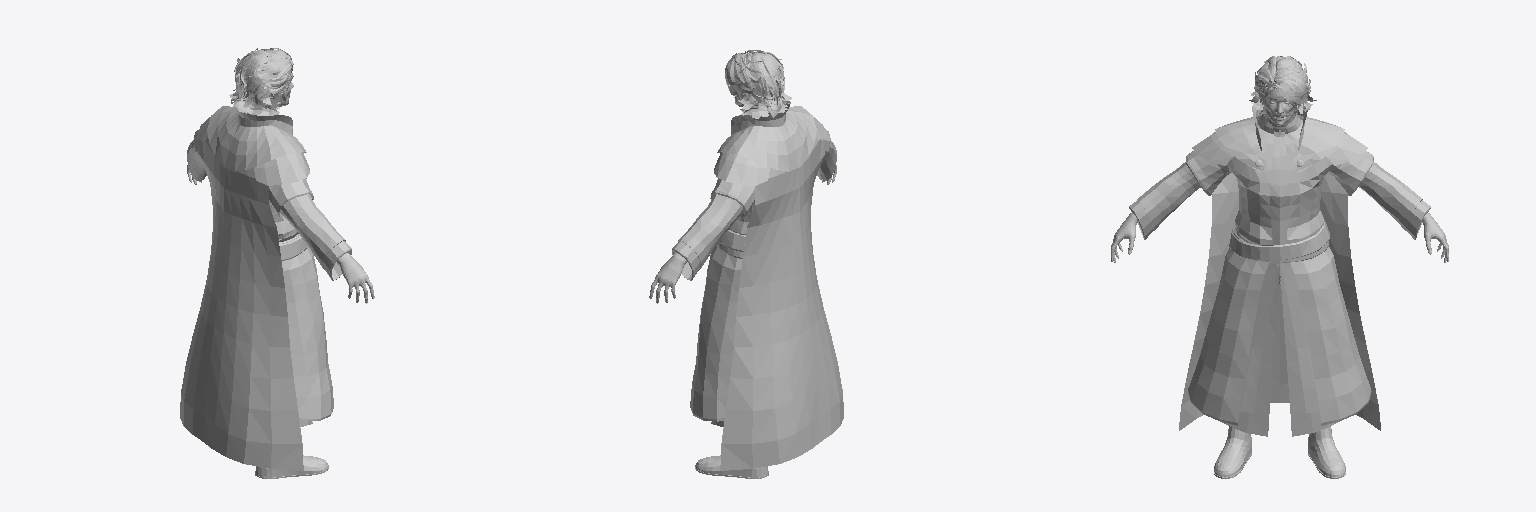
File: uploads_files_5657269_Male_Teacher.obj
3 views of the same model, side by side, from view 1: azimuth 30°, elevation 25°; view 2: azimuth 150°, elevation 25°; view 3: azimuth 270°, elevation 25° (orthographic).
Visible parts, largest first — view 1: Outfit, Hair, Body, Shoes; view 2: Outfit, Hair, Body, Shoes; view 3: Outfit, Shoes, Hair, Body.
Boxes of the visible parts, x1=… form: Outfit: x1=180, y1=106, x2=351, y2=470; Hair: x1=229, y1=48, x2=293, y2=115; Body: x1=187, y1=80, x2=374, y2=303; Shoes: x1=255, y1=455, x2=328, y2=478; Outfit: x1=672, y1=101, x2=843, y2=470; Hair: x1=725, y1=50, x2=791, y2=118; Body: x1=649, y1=92, x2=836, y2=303; Shoes: x1=695, y1=455, x2=768, y2=478; Outfit: x1=1129, y1=106, x2=1430, y2=436; Shoes: x1=1214, y1=426, x2=1345, y2=478; Hair: x1=1249, y1=56, x2=1316, y2=113; Body: x1=1111, y1=88, x2=1448, y2=262.
Size of the model in its own units: 0.5025 by 1.81 by 1.38.